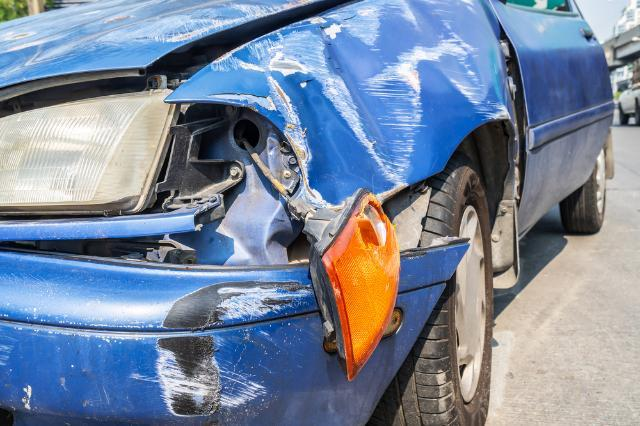dent: (275, 75, 383, 209)
dislocated part: (0, 229, 488, 426), (149, 117, 414, 379), (2, 0, 353, 112)
scratch: (200, 0, 507, 209), (132, 276, 316, 420), (106, 0, 314, 43)
